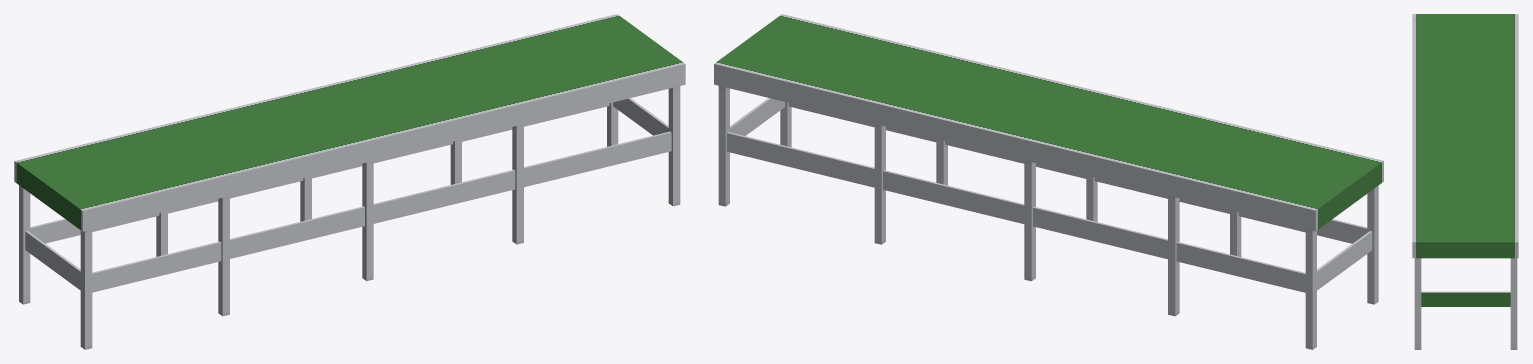
File: jianbaoxian.fbx
3 renders of one model, left to right at view 1: azimuth 30°, elevation 25°; view 2: azimuth 150°, elevation 25°; view 3: azimuth 270°, elevation 25°, orthographic. The views are drawn at different scales.
Visible parts, largest first — view 1: Line002; view 2: Line002; view 3: Line002.
Part boxes in pixels (x1,y1,x2,y2): Line002: [14, 14, 685, 349]; Line002: [714, 14, 1383, 349]; Line002: [1412, 14, 1518, 349].
Bounding box in the file's own units: 103 × 22.9 × 20.14.
Materials: 1 (1 with a texture image).
